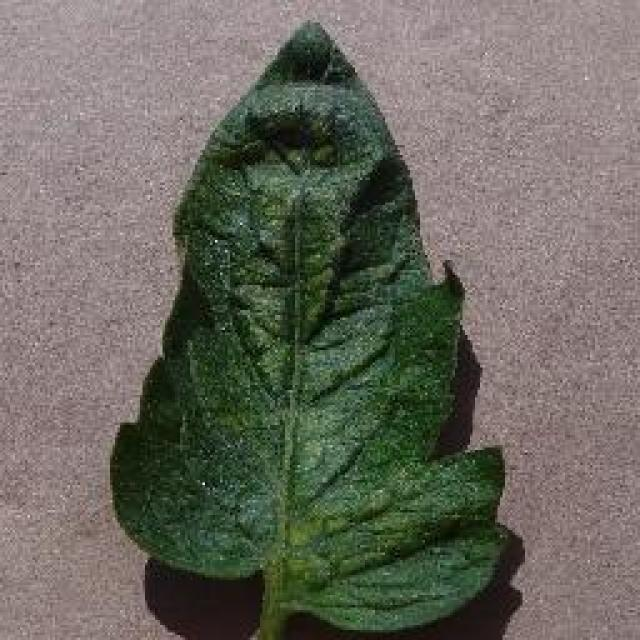Tomato mosaic virus leaf: (107, 17, 510, 640)
